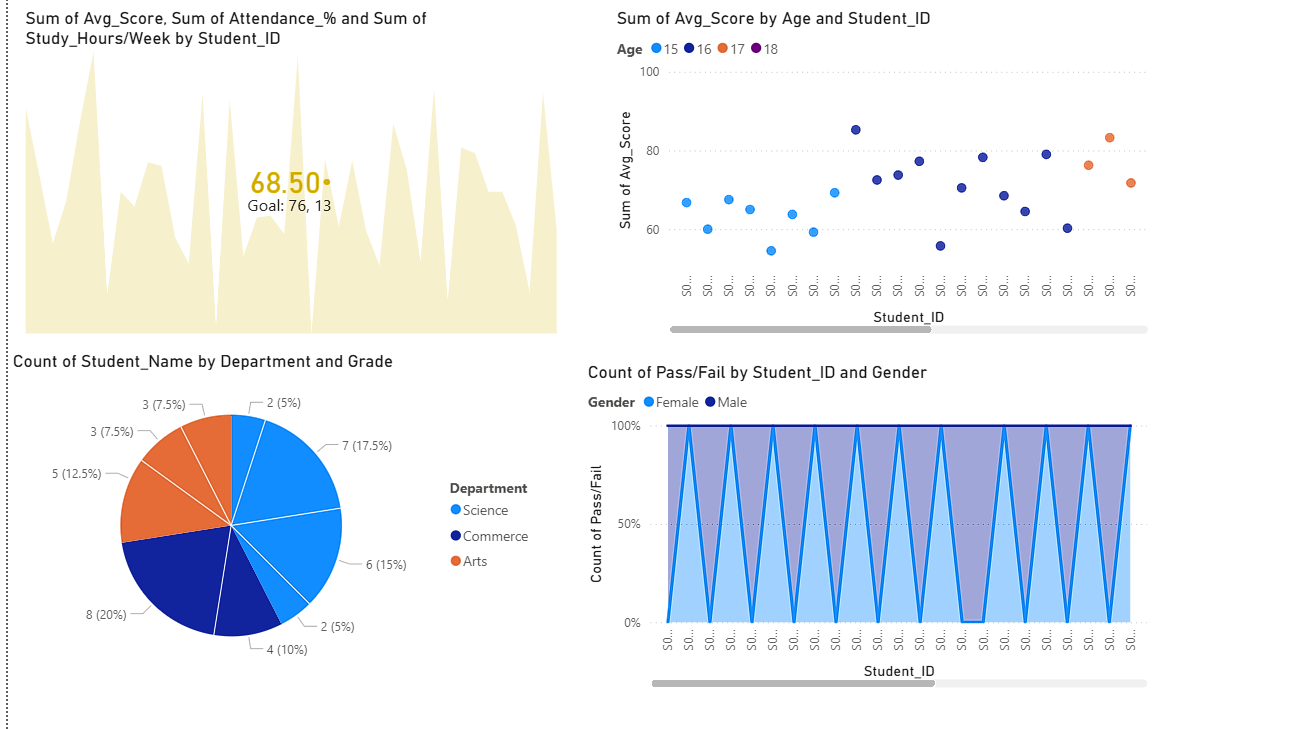

The dashboard page shown, as its layout file describes it:
{"tool":"powerbi","page":{"name":"Page 1","canvas":[1280,720],"ordinal":0},"visuals":[{"type":"kpi","fields":{"TrendLine":["cleaned_education_dataset.Student_ID"],"Indicator":["Sum(cleaned_education_dataset.Avg_Score)"],"Goal":["Sum(cleaned_education_dataset.Attendance_%)","Sum(cleaned_education_dataset.Study_Hours/Week)"]},"box":[12.3,13.7,529.7,323.8],"z":0},{"type":"pieChart","fields":{"Series":["cleaned_education_dataset.Grade"],"Y":["CountNonNull(cleaned_education_dataset.Student_Name)"],"Category":["cleaned_education_dataset.Department"]},"box":[0,348,530,324],"z":1000},{"type":"scatterChart","fields":{"X":["cleaned_education_dataset.Student_ID"],"Y":["Sum(cleaned_education_dataset.Avg_Score)"],"Series":["cleaned_education_dataset.Age"]},"box":[590.1,13.7,529.7,323.8],"z":2000},{"type":"hundredPercentStackedAreaChart","fields":{"Category":["cleaned_education_dataset.Student_ID"],"Series":["cleaned_education_dataset.Gender"],"Y":["CountNonNull(cleaned_education_dataset.Pass/Fail)"]},"box":[562.6,359.5,557.1,323.8],"z":3000}]}

Visuals, with their boxes in screenshot pixels (x1, y1, x2, y2), scaled from the page's 1280x720 canvas onto the 1313x729 screenshot:
kpi - cleaned_education_dataset.Student_ID x Sum(cleaned_education_dataset.Avg_Score): (13,14,556,342)
pieChart - cleaned_education_dataset.Grade x CountNonNull(cleaned_education_dataset.Student_Name): (0,352,544,680)
scatterChart - cleaned_education_dataset.Student_ID x Sum(cleaned_education_dataset.Avg_Score): (605,14,1149,342)
hundredPercentStackedAreaChart - cleaned_education_dataset.Student_ID x cleaned_education_dataset.Gender: (577,364,1149,692)
